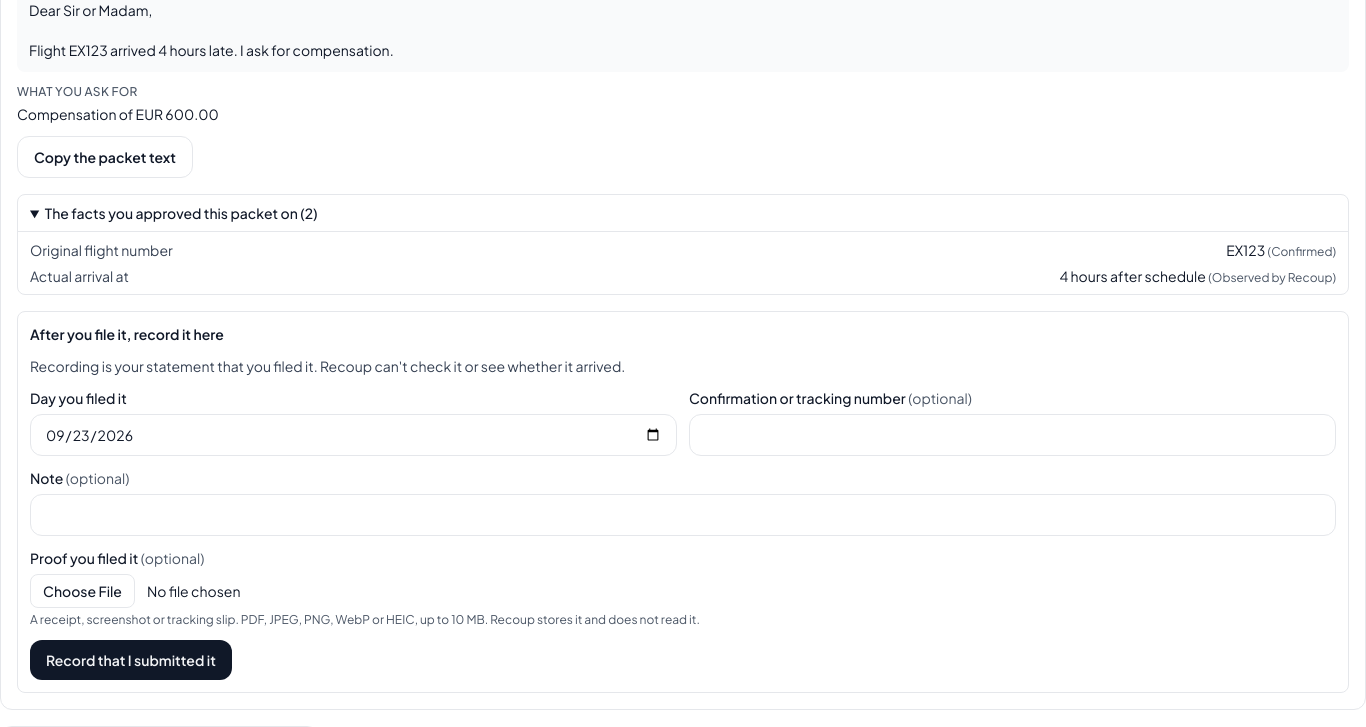
Test: recording the user's own submission (submissions.record) › a late filing is flagged against its deadline
(page scrolled)
In the date field labelled "Day you filed it": (354, 435) [30,414,677,456], type "2026-02-03"
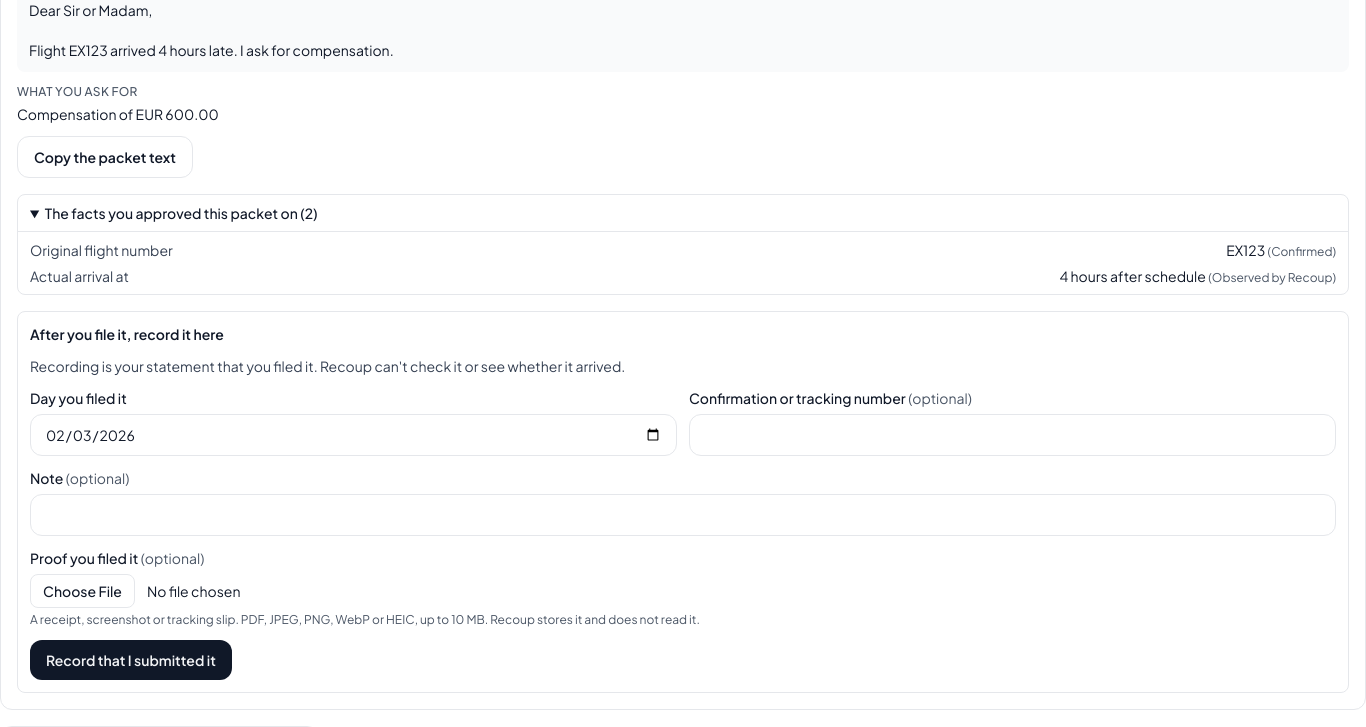
Click the button "Record that I submitted it": click(131, 660) [30,640,232,680]
(page scrolled)
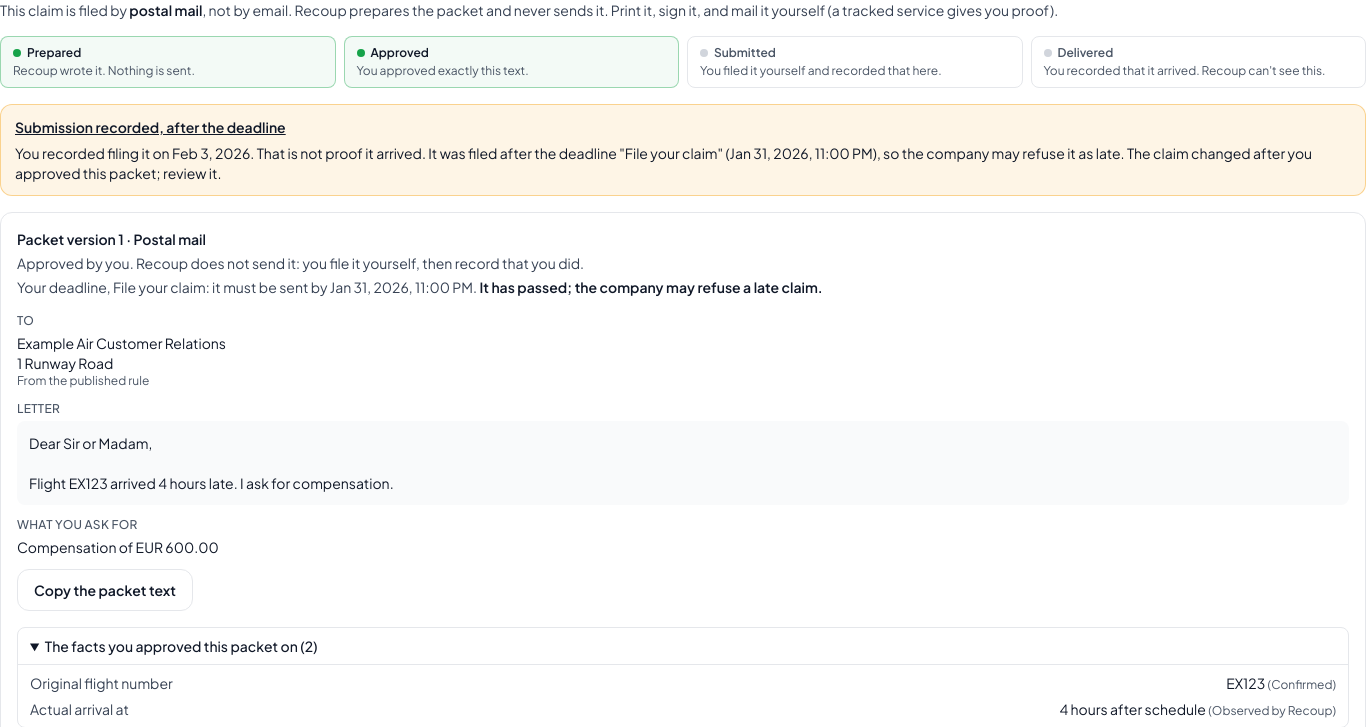
Expected: the heading "Submission recorded, after the deadline" is shown, [15,118,286,136]
Expected: the text "after the deadline \"File your claim\"" is shown, [15,144,1312,182]
Expected: the text "may refuse it as late" is shown, [15,144,1312,182]
